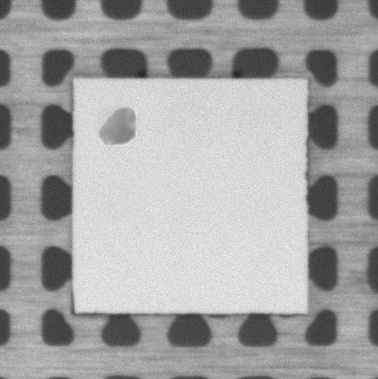DIE_INK: (94, 102, 140, 148)
